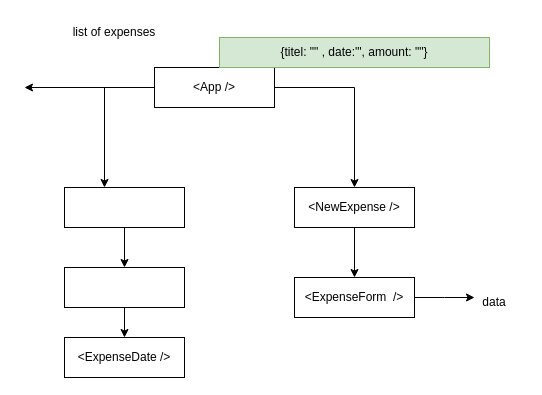
Image size: 542x395. Some labels were removed from this diagram. The shapes that lost their labels are listed below. From the top down, each one's box as (x1, y1, x2, y2) in pixels, then its label:
(64, 186, 184, 228): <Expenses />
(64, 266, 184, 308): <ExpenseItem />
